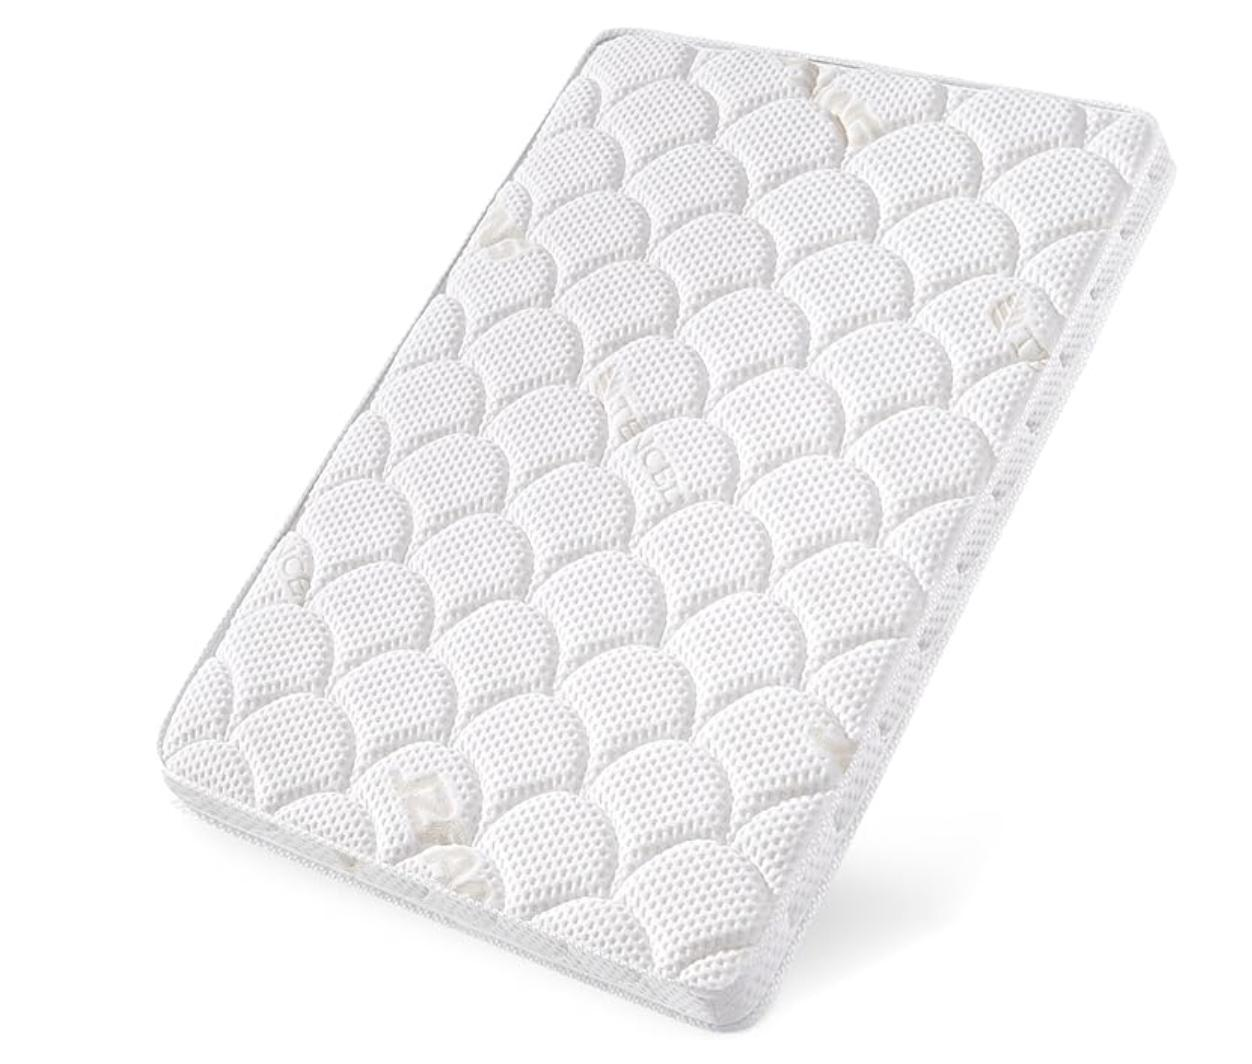Bed-Mattress: (105, 21, 1204, 1056)
